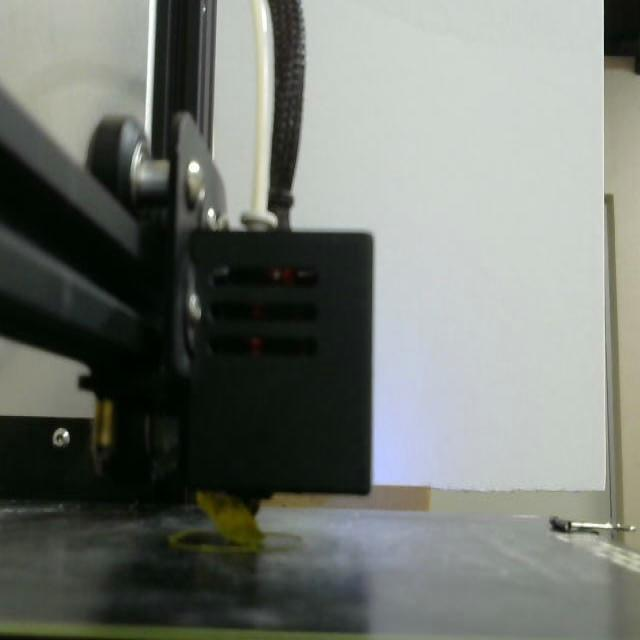spaghetti: (176, 489, 277, 556)
